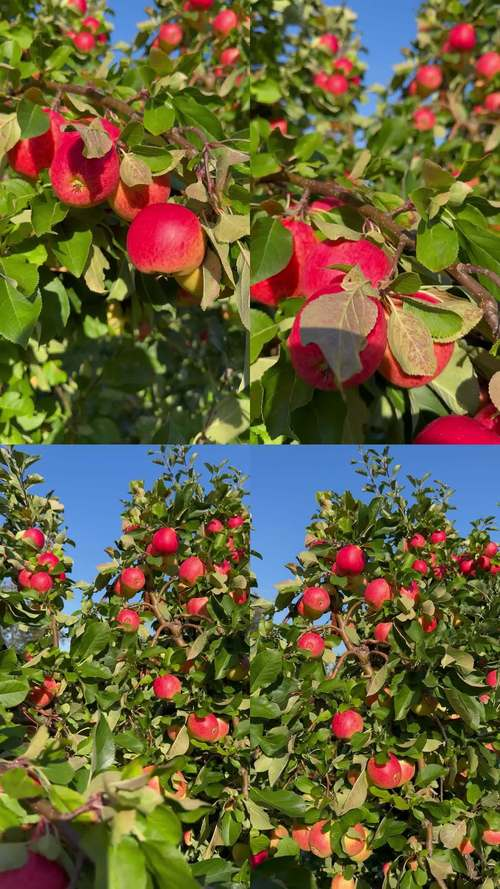ripe: (283, 288, 388, 390), (122, 200, 220, 293), (293, 231, 406, 304), (238, 215, 315, 313), (41, 132, 134, 211), (363, 739, 401, 789)
